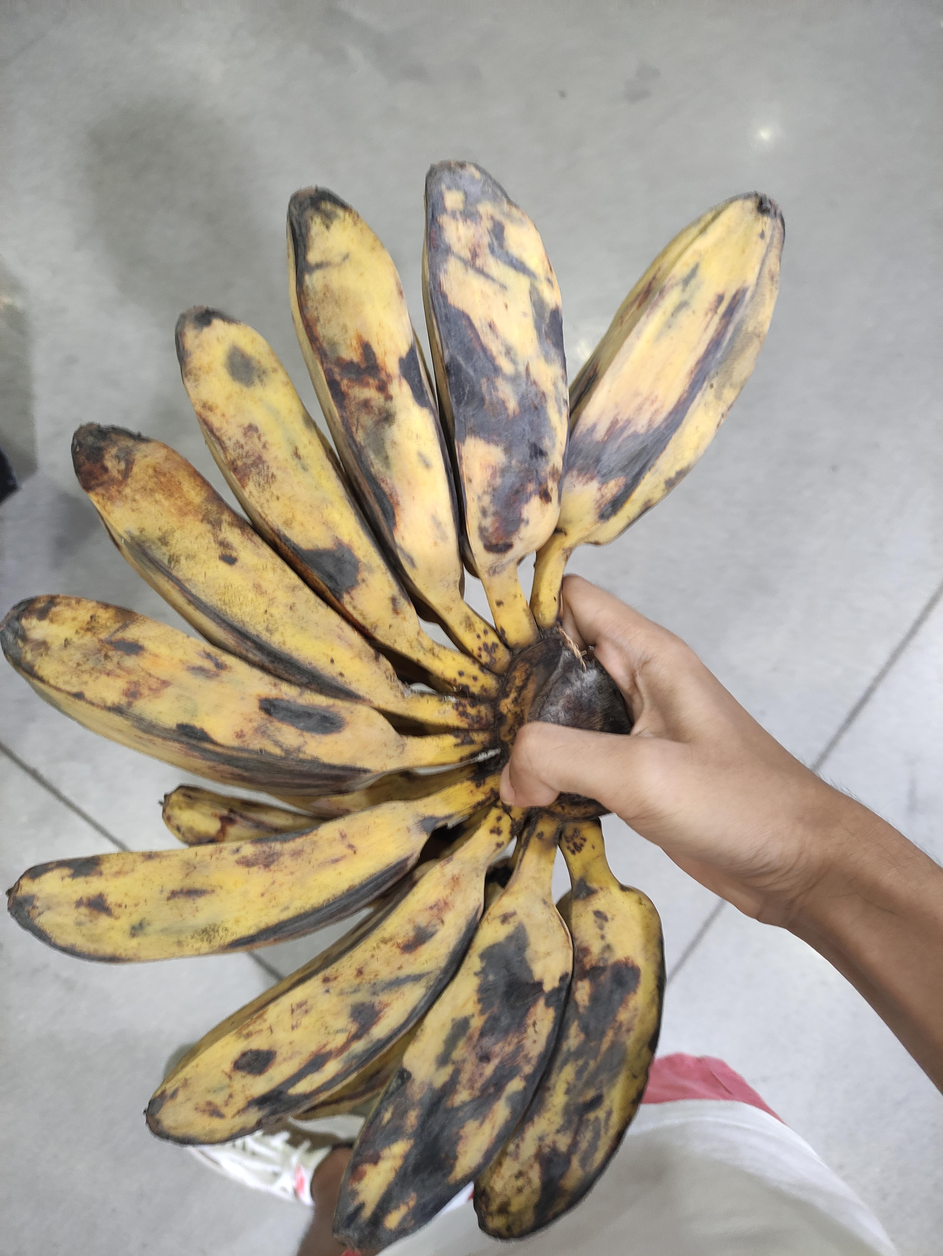ripe: (3, 161, 783, 1256)
